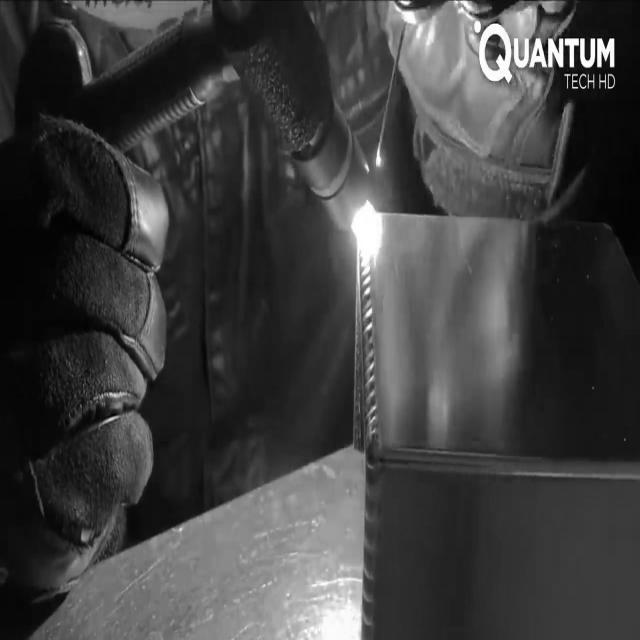Good Weld: (358, 262, 384, 447), (360, 455, 378, 639)
